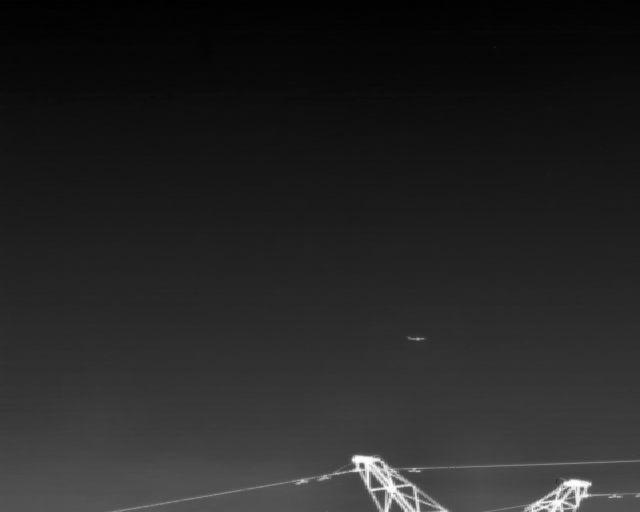Target: (407, 336, 424, 340)
